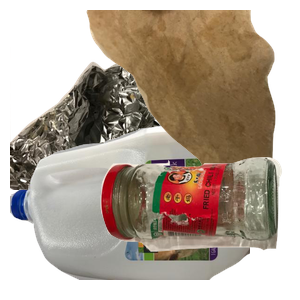glass: (98, 155, 300, 300)
metal: (10, 47, 216, 227)
plastic: (10, 120, 250, 300)
trash: (84, 10, 300, 190)
